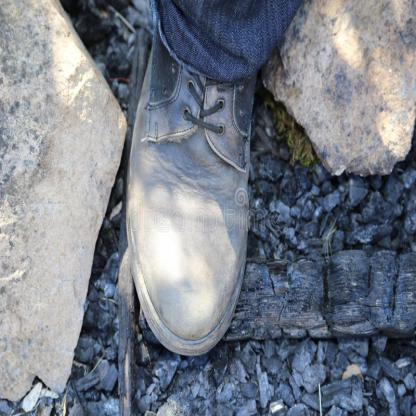bota: (122, 18, 261, 361)
